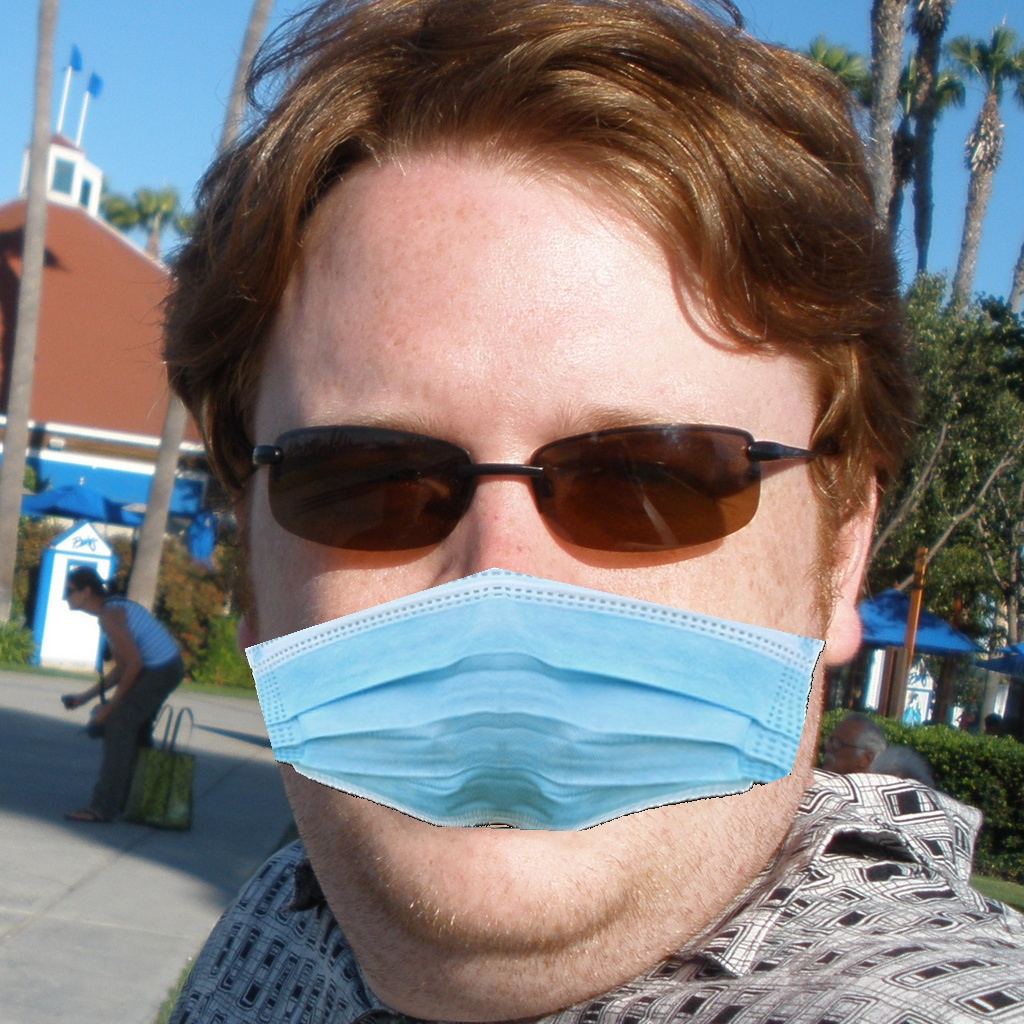mascarilla_mal_puesta: (232, 348, 812, 943)
